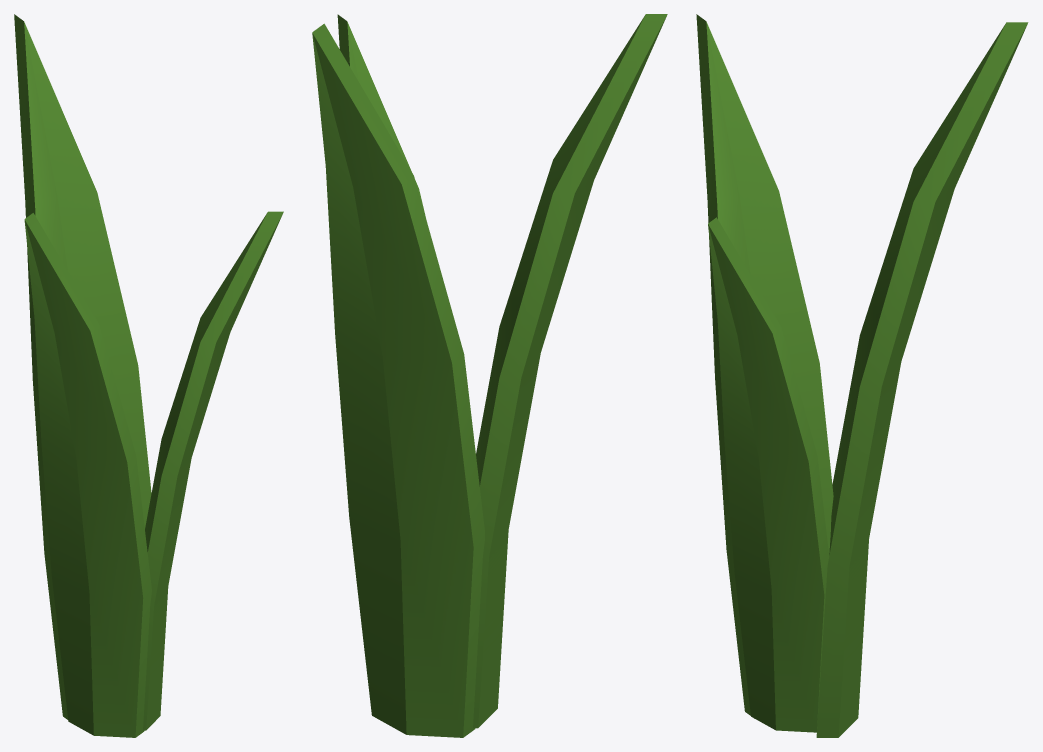
The model's file is plant_grass_1.glb.
3 views of the same model, side by side, from view 1: azimuth 30°, elevation 25°; view 2: azimuth 150°, elevation 25°; view 3: azimuth 270°, elevation 25° (orthographic). The views are drawn at different scales.
Visible parts, largest first — view 1: plant_grass_1; view 2: plant_grass_1; view 3: plant_grass_1.
Boxes of the visible parts, x1,y1,x2,y2 form: plant_grass_1: [14, 14, 283, 737]; plant_grass_1: [312, 14, 667, 737]; plant_grass_1: [696, 14, 1028, 737].
Bounding box in the file's own units: 0.3952 × 0.9 × 0.3893.
